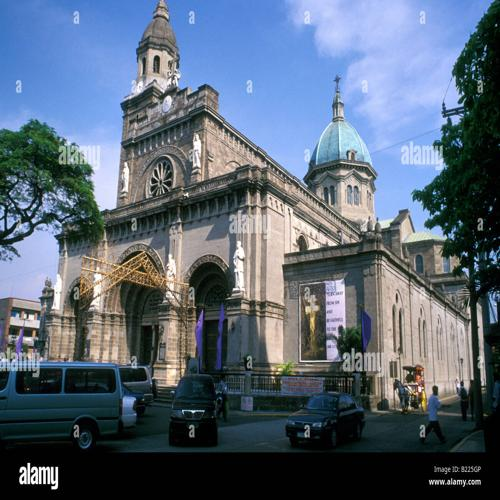Manila Cathedral Church: (22, 1, 482, 412)
